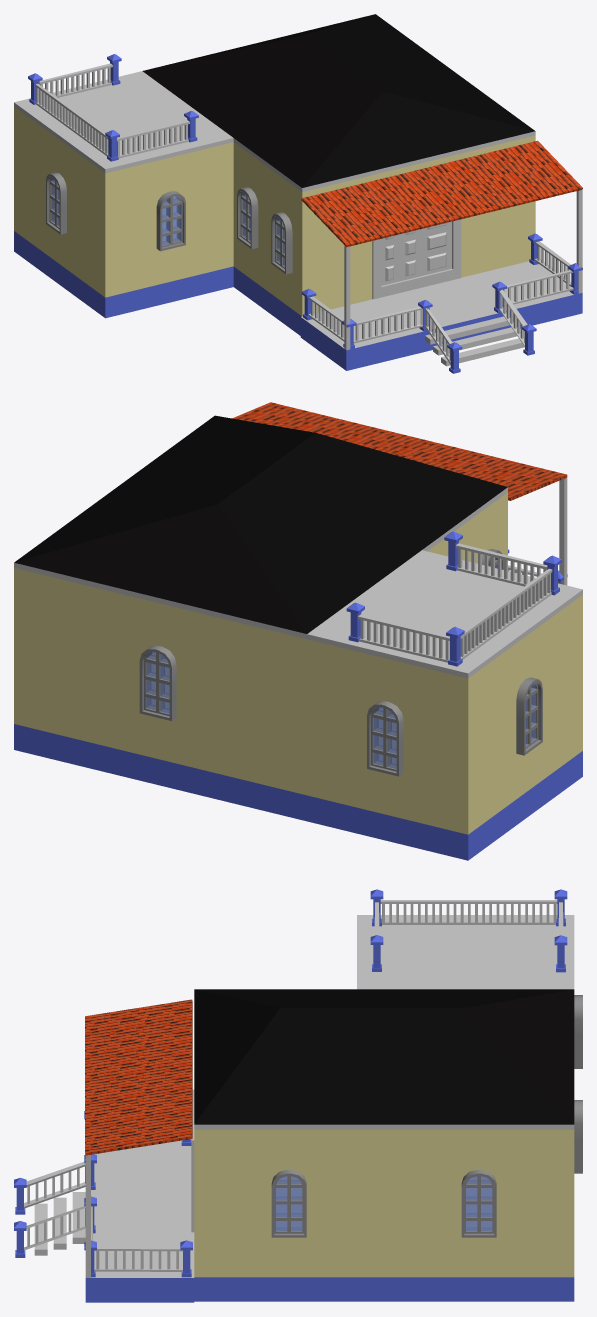
File: SM_HouseGenerated.fbx
3 views of the same model, one above another, from view 1: azimuth 30°, elevation 25°; view 2: azimuth 150°, elevation 25°; view 3: azimuth 270°, elevation 25° (orthographic). The views are drawn at different scales.
Visible parts, largest first — view 1: HouseA, HouseA_Roof, TerraceA, HouseA_Ceiling, RailingEntrance, HouseA_Floor, HouseA_Door, RailingRoof, StairsA; view 2: HouseA, HouseA_Roof, HouseA_Ceiling, HouseA_Floor, TerraceA, RailingRoof; view 3: HouseA, HouseA_Roof, TerraceA, HouseA_Ceiling, HouseA_Floor, RailingEntrance, RailingRoof, StairsA.
Boxes of the visible parts, bbox=[...] form: HouseA: bbox=[14, 107, 535, 316]; HouseA_Roof: bbox=[142, 14, 535, 187]; TerraceA: bbox=[300, 140, 582, 370]; HouseA_Ceiling: bbox=[14, 71, 535, 192]; RailingEntrance: bbox=[301, 233, 582, 373]; HouseA_Floor: bbox=[14, 196, 301, 335]; HouseA_Door: bbox=[372, 219, 461, 299]; RailingRoof: bbox=[28, 54, 198, 161]; StairsA: bbox=[425, 316, 524, 366]; HouseA: bbox=[14, 492, 582, 834]; HouseA_Roof: bbox=[14, 415, 507, 633]; HouseA_Ceiling: bbox=[14, 487, 582, 678]; HouseA_Floor: bbox=[14, 652, 582, 860]; TerraceA: bbox=[232, 402, 567, 585]; RailingRoof: bbox=[346, 531, 561, 666]; HouseA: bbox=[194, 995, 582, 1277]; HouseA_Roof: bbox=[194, 989, 574, 1124]; TerraceA: bbox=[85, 999, 194, 1302]; HouseA_Ceiling: bbox=[194, 915, 574, 1129]; HouseA_Floor: bbox=[194, 1176, 574, 1301]; RailingEntrance: bbox=[14, 1111, 192, 1277]; RailingRoof: bbox=[370, 889, 567, 972]; StairsA: bbox=[34, 1192, 85, 1255].
Size of the model in its own units: 946 by 460 by 1048.
